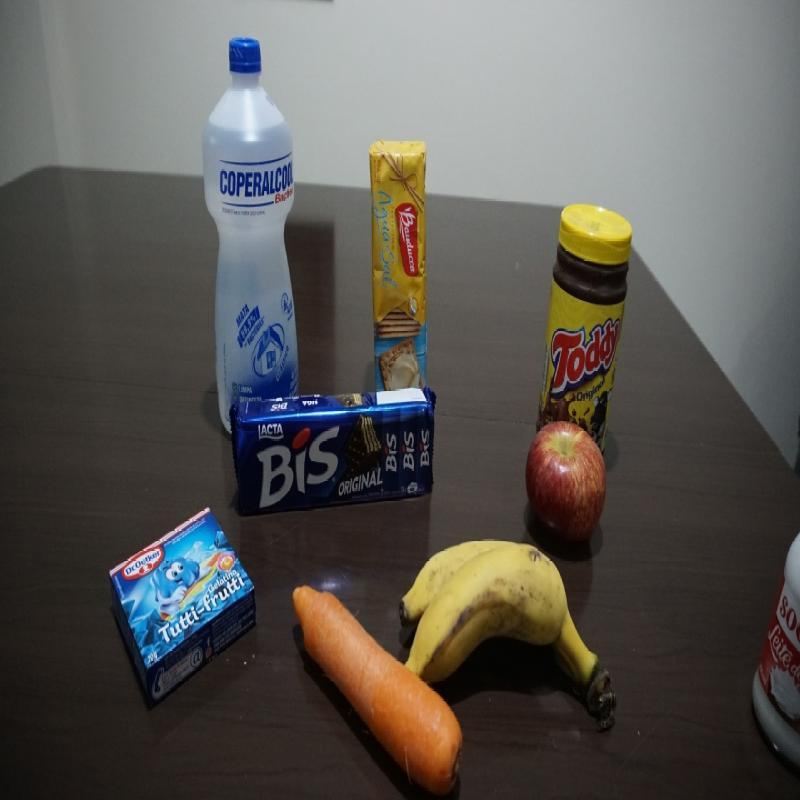Alcohol Bottle: (210, 31, 300, 381)
Apple: (527, 417, 612, 520)
Banana: (464, 529, 629, 751)
Carrot: (286, 580, 463, 794)
Chocolate Powder: (548, 203, 628, 414)
Cracker: (370, 142, 430, 388)
Gelatine: (110, 507, 259, 712)
